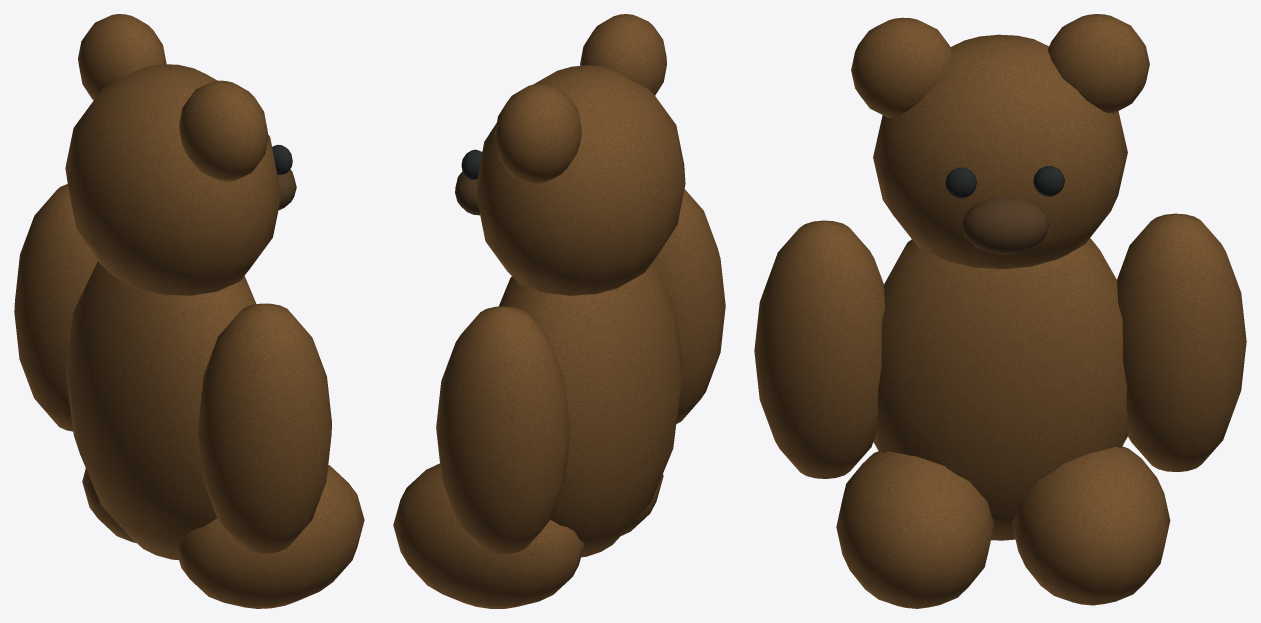
The model's file is SM_TeddyPrize_49a996bcfe.fbx.
The picture shows the model from 3 angles, left to right: view 1: azimuth 30°, elevation 25°; view 2: azimuth 150°, elevation 25°; view 3: azimuth 270°, elevation 25°; orthographic projection. The views are drawn at different scales.
Parts seen in each view (by area): view 1: SM_TeddyPrize_49a996bcfe; view 2: SM_TeddyPrize_49a996bcfe; view 3: SM_TeddyPrize_49a996bcfe.
Boxes of the visible parts, x1,y1,x2,y2 form: SM_TeddyPrize_49a996bcfe: (14,14,364,608); SM_TeddyPrize_49a996bcfe: (393,14,725,608); SM_TeddyPrize_49a996bcfe: (754,14,1246,608).
Size of what is drawn, in the model's own units: 28.68 by 51.04 by 62.96.
3 materials, 1 textured.
